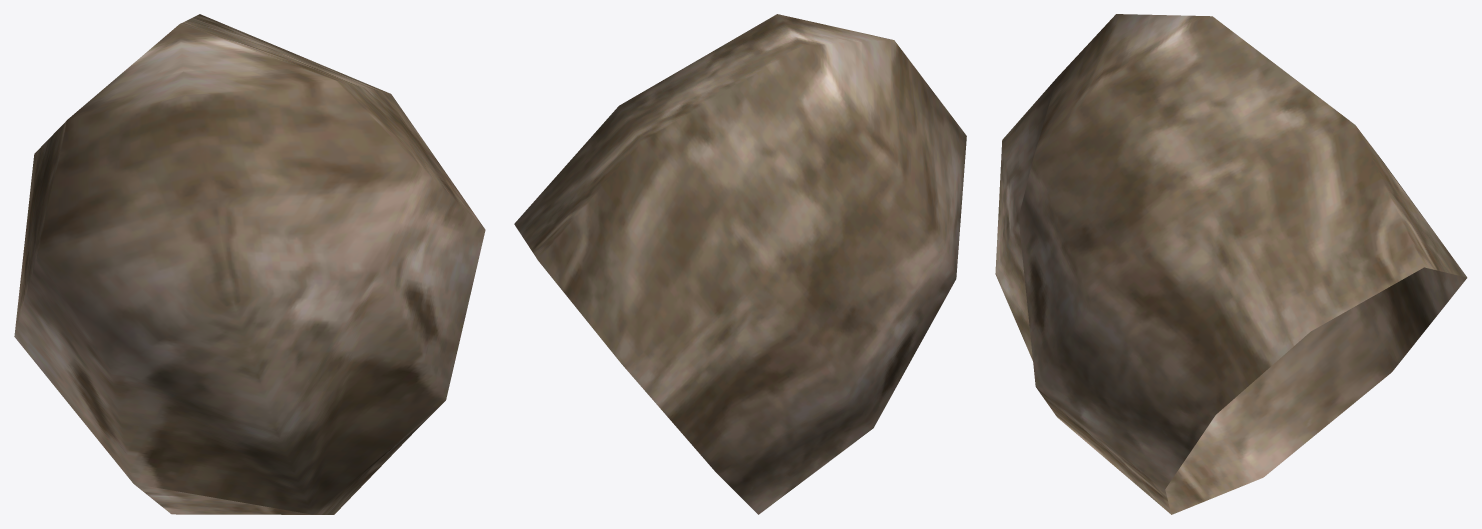
The model's file is OVERHILL_A_01_ROCK49.fbx.
The picture shows the model from 3 angles, left to right: view 1: azimuth 30°, elevation 25°; view 2: azimuth 150°, elevation 25°; view 3: azimuth 270°, elevation 25°; orthographic projection. The views are drawn at different scales.
Parts seen in each view (by area): view 1: OVERHILL_A_01_ROCK49; view 2: OVERHILL_A_01_ROCK49; view 3: OVERHILL_A_01_ROCK49.
Part boxes in pixels (x1=…): OVERHILL_A_01_ROCK49: x1=14, y1=14, x2=485, y2=514; OVERHILL_A_01_ROCK49: x1=514, y1=14, x2=966, y2=514; OVERHILL_A_01_ROCK49: x1=995, y1=14, x2=1467, y2=514.
Size of the model in its own units: 9048 by 10462 by 9895.
Materials: 1 (1 with a texture image).
